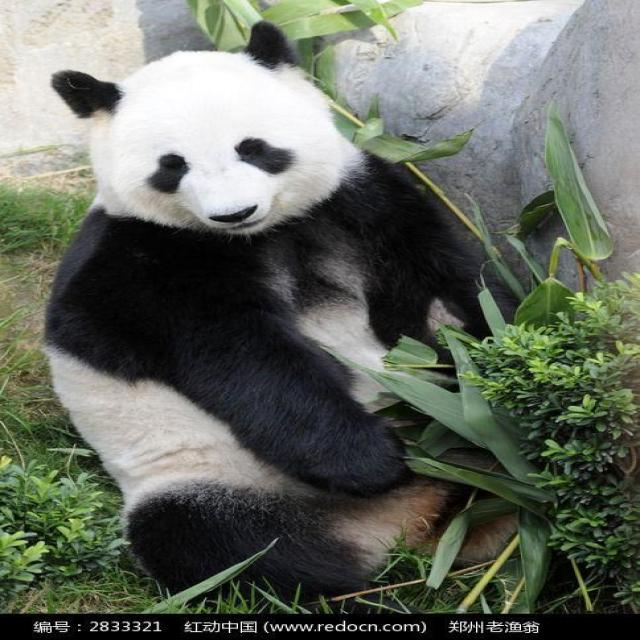panda: (34, 16, 570, 597)
